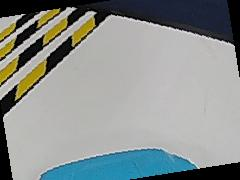bump: (1, 8, 105, 94)
